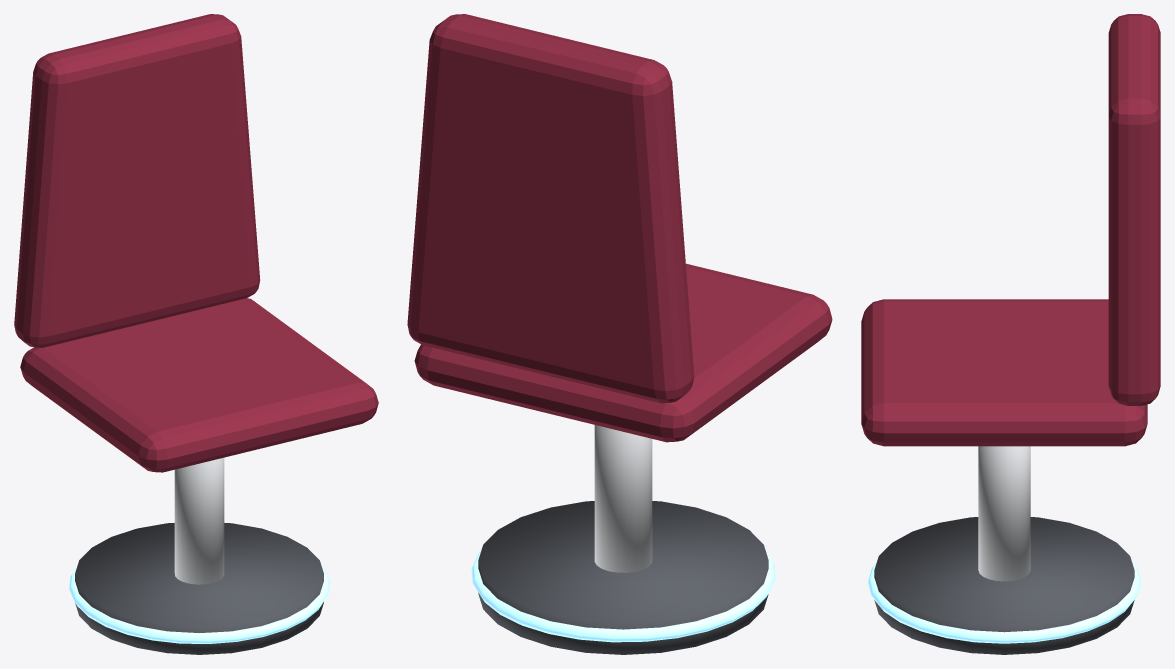
The model's file is dining_chair_hover.glb.
3 views of the same model, side by side, from view 1: azimuth 30°, elevation 25°; view 2: azimuth 150°, elevation 25°; view 3: azimuth 270°, elevation 25° (orthographic). The views are drawn at different scales.
Visible parts, largest first — view 1: GD_dining_chair_hover__m3, GD_dining_chair_hover__m0, GD_dining_chair_hover__m2, GD_dining_chair_hover__m1; view 2: GD_dining_chair_hover__m3, GD_dining_chair_hover__m0, GD_dining_chair_hover__m2, GD_dining_chair_hover__m1; view 3: GD_dining_chair_hover__m3, GD_dining_chair_hover__m0, GD_dining_chair_hover__m2, GD_dining_chair_hover__m1.
Part boxes in pixels (bbox=[...]): GD_dining_chair_hover__m3: bbox=[14, 14, 378, 472]; GD_dining_chair_hover__m0: bbox=[75, 523, 323, 654]; GD_dining_chair_hover__m2: bbox=[174, 457, 224, 584]; GD_dining_chair_hover__m1: bbox=[69, 564, 329, 643]; GD_dining_chair_hover__m3: bbox=[407, 14, 832, 442]; GD_dining_chair_hover__m0: bbox=[478, 501, 768, 654]; GD_dining_chair_hover__m2: bbox=[594, 425, 652, 572]; GD_dining_chair_hover__m1: bbox=[471, 549, 775, 642]; GD_dining_chair_hover__m3: bbox=[861, 14, 1160, 446]; GD_dining_chair_hover__m0: bbox=[874, 517, 1134, 654]; GD_dining_chair_hover__m2: bbox=[978, 446, 1030, 581]; GD_dining_chair_hover__m1: bbox=[868, 562, 1140, 643].
Size of the model in its own units: 0.44 by 0.92 by 0.46.
